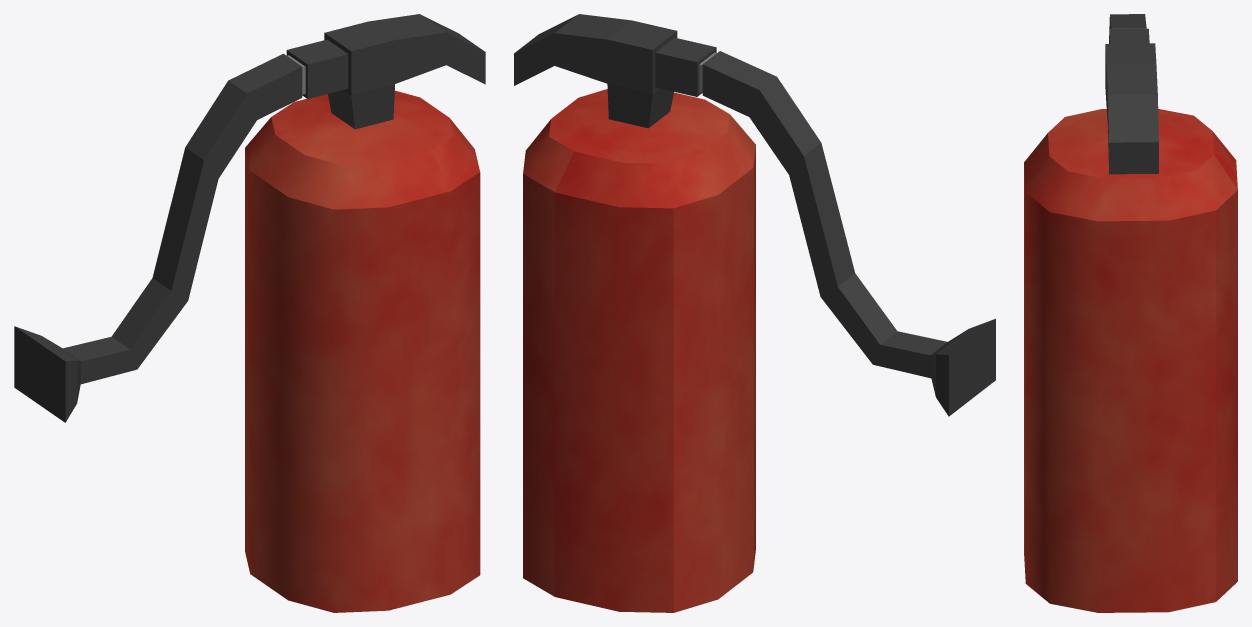
The model's file is Exstinguisher.fbx.
3 renders of one model, left to right at view 1: azimuth 30°, elevation 25°; view 2: azimuth 150°, elevation 25°; view 3: azimuth 270°, elevation 25°, orthographic. The views are drawn at different scales.
Parts seen in each view (by area): view 1: pCube22; view 2: pCube22; view 3: pCube22.
Part boxes in pixels (x1,y1,x2,y2): pCube22: (14, 14, 485, 612); pCube22: (514, 14, 995, 612); pCube22: (1024, 14, 1237, 612).
Bounding box in the file's own units: 55.85 × 64 × 24.22.
